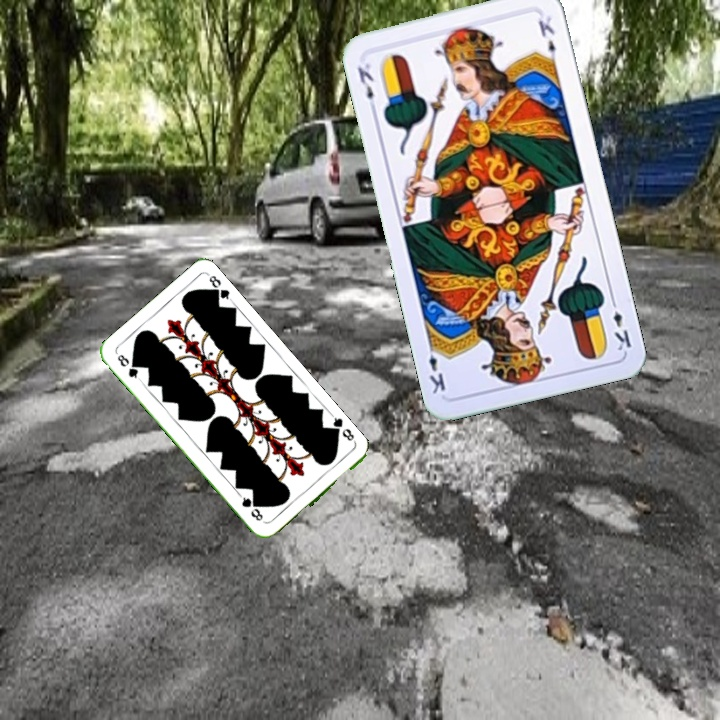EK: (606, 294, 634, 354), (353, 59, 380, 114)
G8: (326, 412, 359, 446), (113, 350, 143, 383)
